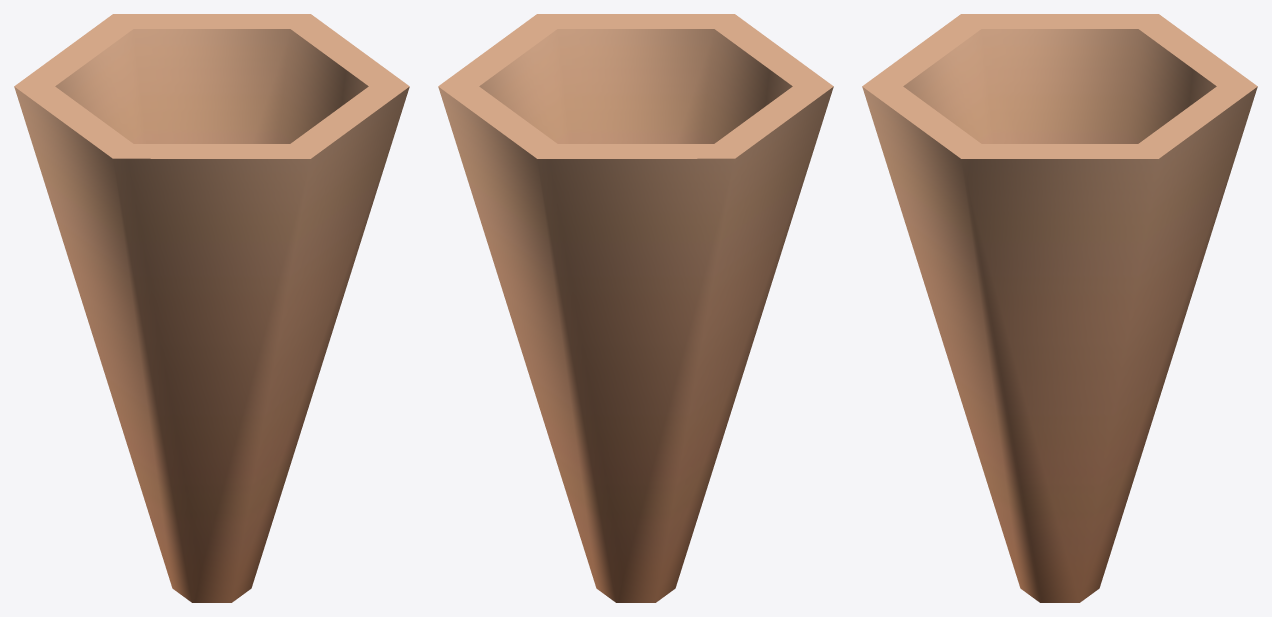
The model's file is kenney-food-ice-cream-cne.glb.
3 renders of one model, left to right at view 1: azimuth 30°, elevation 25°; view 2: azimuth 150°, elevation 25°; view 3: azimuth 270°, elevation 25°, orthographic.
Visible parts, largest first — view 1: ice-cream-cne; view 2: ice-cream-cne; view 3: ice-cream-cne.
Part boxes in pixels (x1,y1,x2,y2): ice-cream-cne: [14, 14, 409, 602]; ice-cream-cne: [438, 14, 833, 602]; ice-cream-cne: [862, 14, 1257, 602].
Bounding box in the file's own units: 0.1845 × 0.2982 × 0.213.
Materials: 1 (1 with a texture image).
